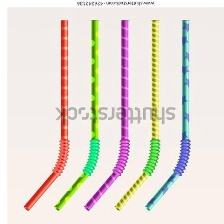drinking_straw: (15, 15, 73, 214), (81, 14, 134, 213), (142, 16, 193, 215)
